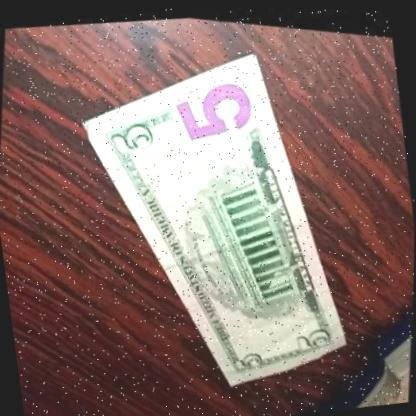five-back: (22, 1, 407, 416)
